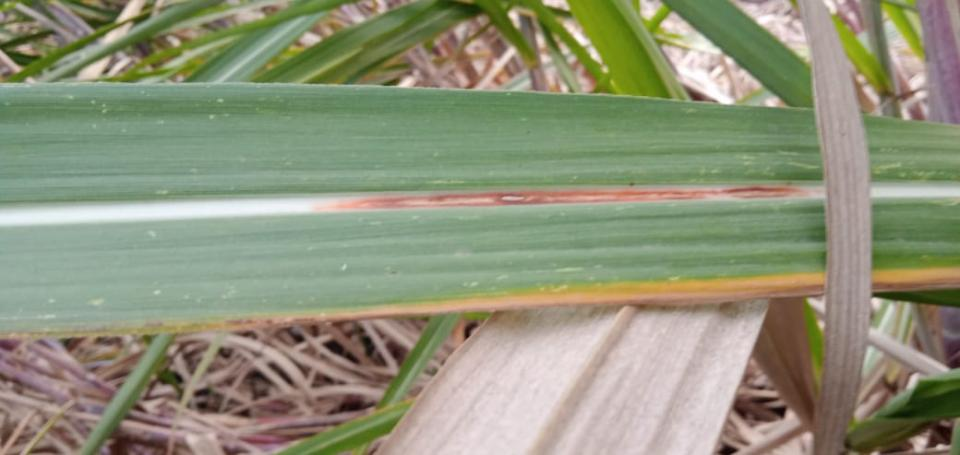RedRot: (315, 184, 808, 211)
Yellow: (225, 271, 824, 324), (872, 264, 959, 293)
